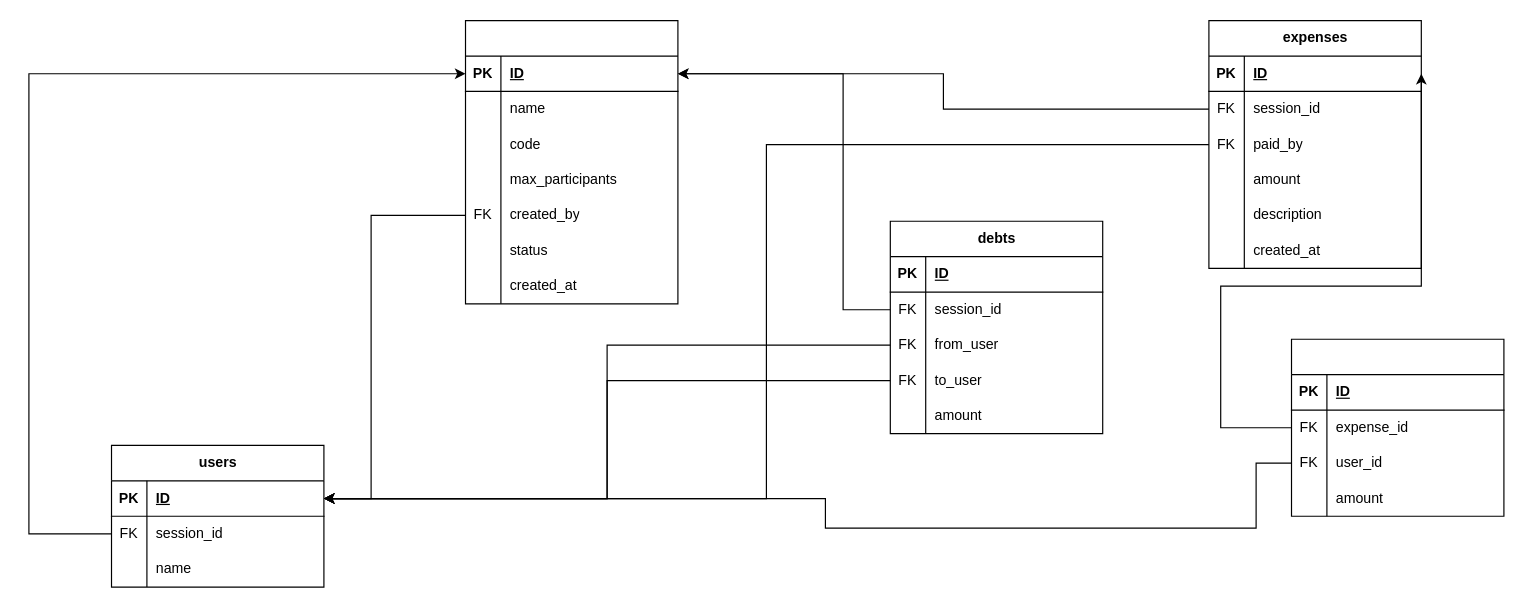
The diagram is 1525 pixels wide and 608 high, and some of its shapes have lost their labels. The shapes that lost their labels are listed below. From the top down, each one's box as (x1, y1, x2, y2) in pixels, then its label:
(464, 19, 678, 304): sessions
(1290, 338, 1504, 516): expense_shares
